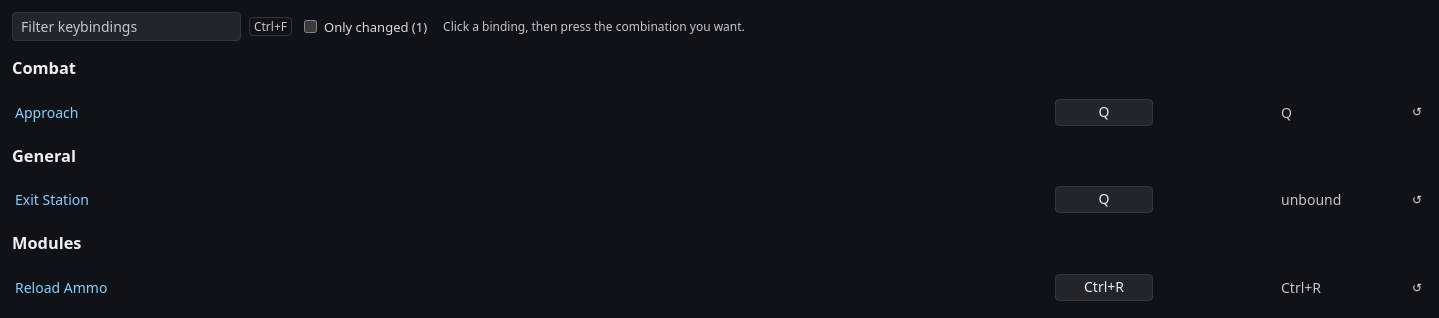
it: 'Only changed' keeps just the rows the file binds differently from EVE's default
The width and height of the screenshot is (1439, 318).
Click the checkbox labelled "Only changed (1)". click: (310, 26)
box: [304, 20, 317, 33]
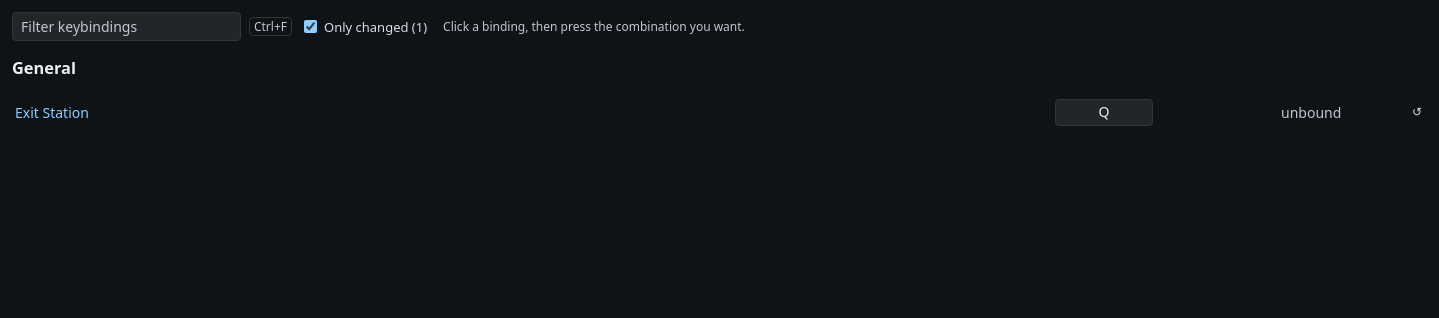
Expected: the cell titled "CmdExitStation" is shown, [14, 98, 1052, 127]
Expected: the cell titled "CmdReloadAmmo" is gone
Expected: the cell titled "CmdApproachItem" is gone
